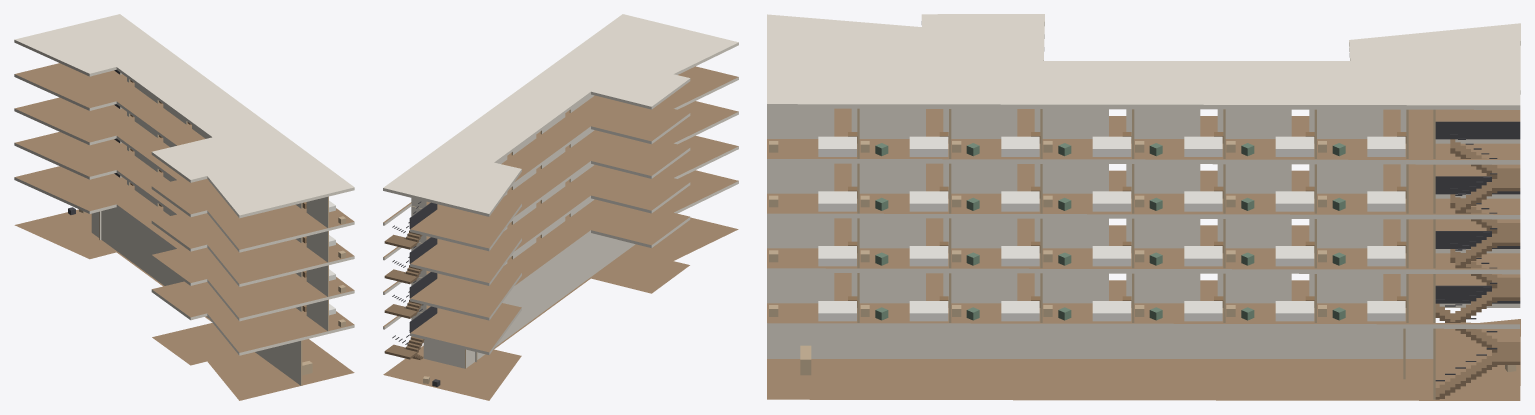
File: interior.glb
3 views of the same model, side by side, from view 1: azimuth 30°, elevation 25°; view 2: azimuth 150°, elevation 25°; view 3: azimuth 270°, elevation 25° (orthographic). The views are drawn at different scales.
Parts seen in each view (by area): view 1: slabs, partitions; view 2: slabs, partitions, stair; view 3: slabs, partitions, stair, coarse-s2, coarse-s3, coarse-s1, coarse-s4.
Part boxes in pixels (left/top/right/bottom): slabs: left=14, top=14, right=354, bottom=400; partitions: left=91, top=72, right=328, bottom=385; slabs: left=383, top=14, right=738, bottom=400; partitions: left=411, top=94, right=635, bottom=368; stair: left=384, top=201, right=437, bottom=359; slabs: left=767, top=14, right=1520, bottom=400; partitions: left=767, top=108, right=1435, bottom=399; stair: left=1435, top=121, right=1520, bottom=399; coarse-s2: left=769, top=241, right=1406, bottom=266; coarse-s3: left=769, top=186, right=1406, bottom=211; coarse-s1: left=769, top=296, right=1406, bottom=321; coarse-s4: left=769, top=132, right=1406, bottom=156.
Bounding box in the file's own units: 11.18 × 16.89 × 38.99.
